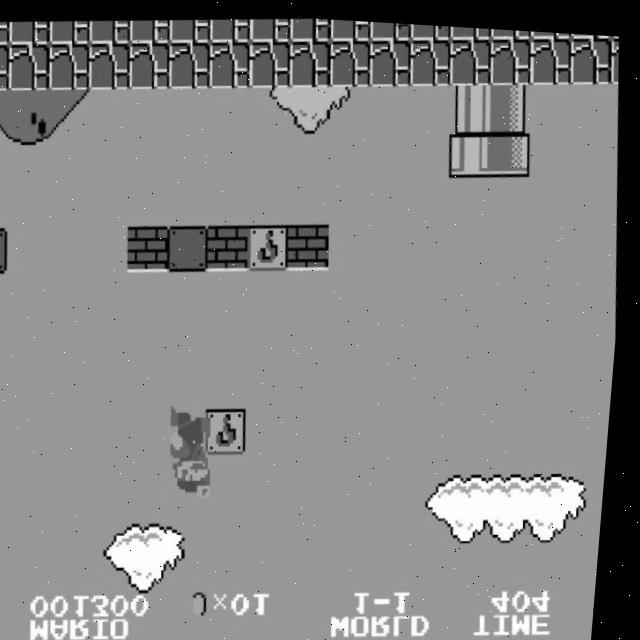0- big_mario: (169, 400, 224, 500)
1- brick_block: (208, 219, 255, 271), (128, 221, 175, 272), (288, 218, 335, 269)
13- mystery_block: (248, 218, 295, 269), (209, 403, 256, 453)
14- pipe: (487, 76, 535, 127), (447, 77, 494, 128)
15- pipe_head: (448, 122, 495, 173), (488, 121, 535, 172)
17- undestructible_block: (46, 40, 94, 91), (487, 30, 535, 81), (6, 41, 53, 92), (87, 39, 134, 90), (126, 38, 173, 89), (167, 37, 214, 88), (207, 36, 254, 87), (247, 35, 294, 86), (287, 35, 334, 86), (327, 33, 374, 84), (367, 32, 414, 83), (407, 32, 454, 83), (447, 31, 494, 82), (527, 29, 574, 80), (567, 28, 614, 79), (7, 18, 52, 46), (47, 17, 92, 45), (167, 15, 212, 43), (88, 17, 132, 45), (128, 16, 172, 44), (208, 14, 252, 42), (248, 13, 292, 41), (287, 13, 332, 39), (328, 15, 372, 38), (368, 17, 412, 38), (408, 19, 452, 37), (448, 21, 492, 36), (608, 29, 621, 76), (0, 44, 12, 93), (488, 23, 532, 35), (529, 25, 572, 34), (0, 22, 11, 47)
3- empty_block: (168, 220, 215, 271), (0, 226, 14, 275)
